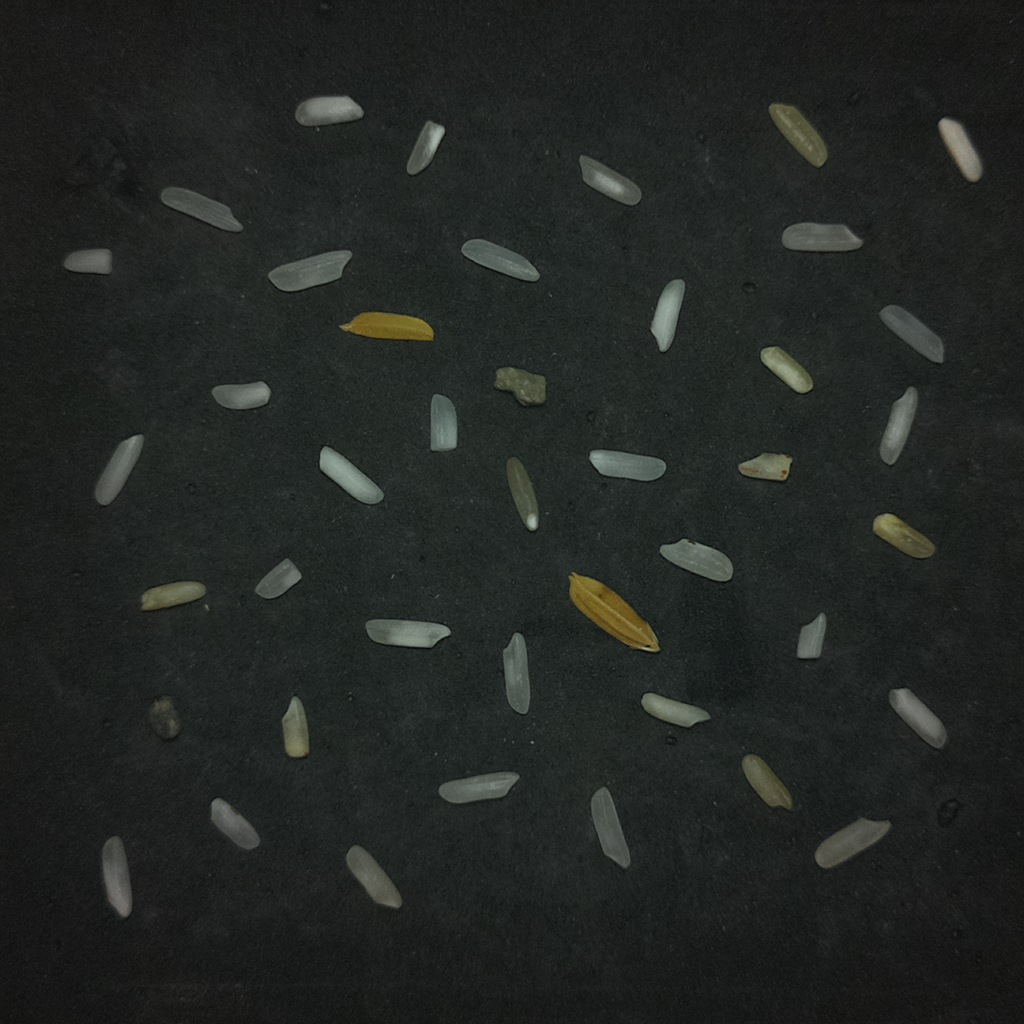broken: (659, 538, 733, 581), (579, 155, 641, 205), (210, 798, 259, 849), (407, 120, 444, 174), (255, 558, 301, 599), (281, 696, 309, 757), (211, 381, 270, 409), (430, 394, 457, 451), (796, 612, 826, 659), (148, 697, 181, 739), (63, 248, 111, 274)
chalky: (319, 446, 383, 504), (888, 688, 947, 748), (938, 117, 982, 182), (650, 279, 684, 351), (641, 692, 710, 727), (294, 96, 363, 126)
damaged: (506, 456, 538, 531)
discolored: (769, 103, 827, 167), (741, 754, 792, 809), (873, 513, 935, 558), (760, 346, 812, 393), (140, 581, 206, 610)
foreign: (494, 368, 545, 406)
paddy: (569, 573, 659, 651), (340, 312, 434, 340)
red: (738, 452, 791, 480)
whole: (814, 818, 890, 868), (879, 304, 943, 363), (160, 187, 242, 231), (268, 250, 352, 292), (346, 845, 402, 908), (94, 434, 143, 505), (461, 238, 539, 281), (592, 787, 630, 868), (879, 386, 917, 464), (101, 836, 133, 919), (438, 771, 519, 803), (588, 449, 666, 481), (781, 222, 862, 252), (365, 620, 450, 648), (503, 632, 530, 714)
